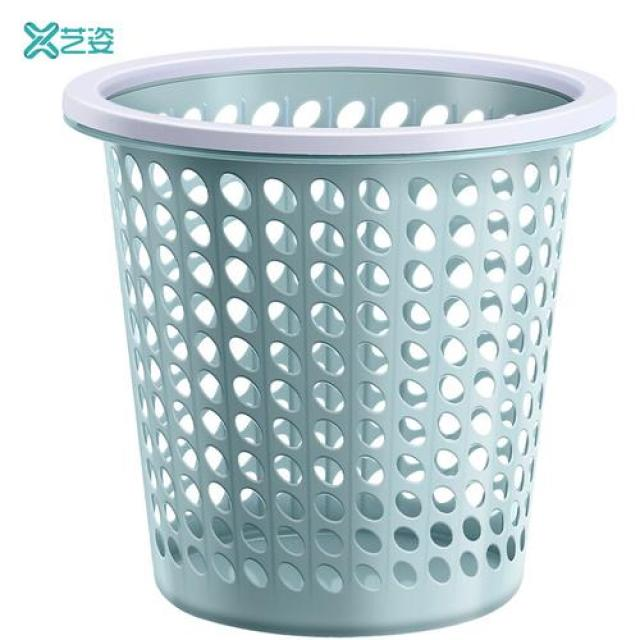dustbin: (61, 45, 624, 640)
